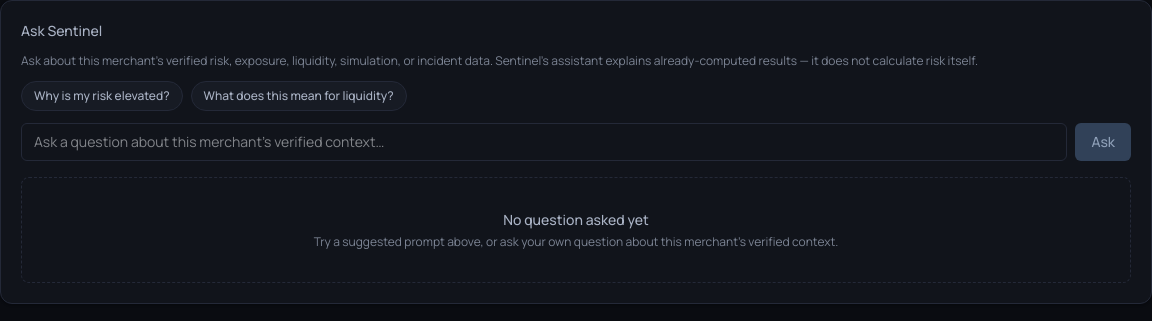
Test: AssistantPanel › shows a generic error state for other failures
This screenshot has width=1152, height=321.
Click the button "Why is my risk elevated?".
click(102, 96)  # box x1=21 y1=81 x2=183 y2=111
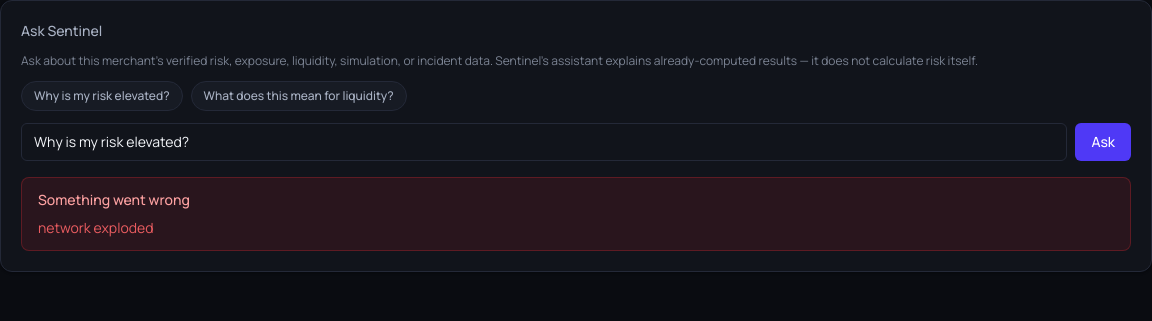
Result: the text "network exploded" is shown at x1=38 y1=218 x2=154 y2=237
